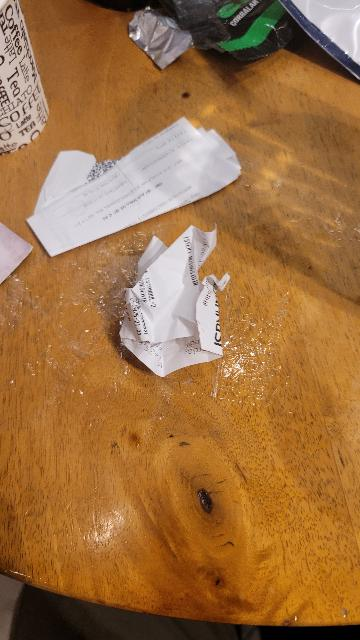Kagit: (25, 118, 237, 256), (119, 218, 227, 381)
